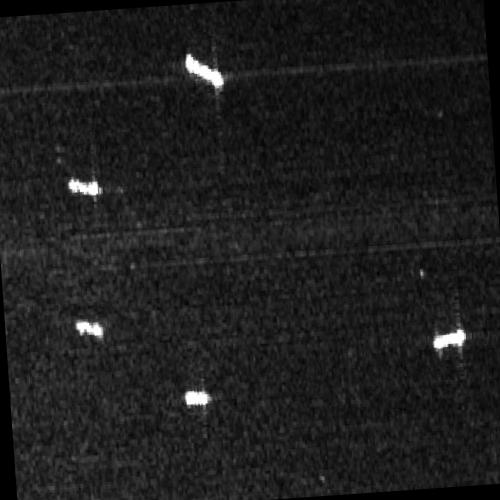ship: (185, 52, 225, 88), (433, 328, 466, 350), (67, 177, 103, 196), (74, 320, 104, 338), (183, 389, 213, 407)
